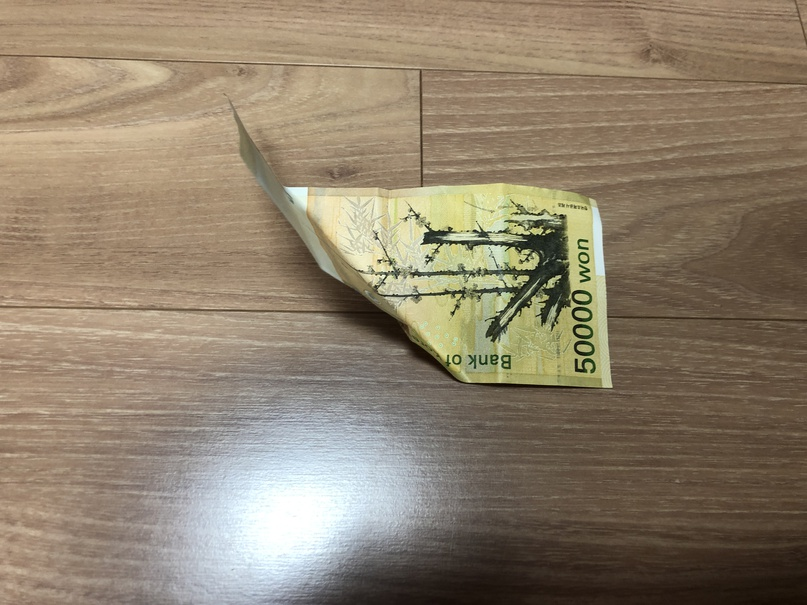50000won: (226, 95, 616, 391)
